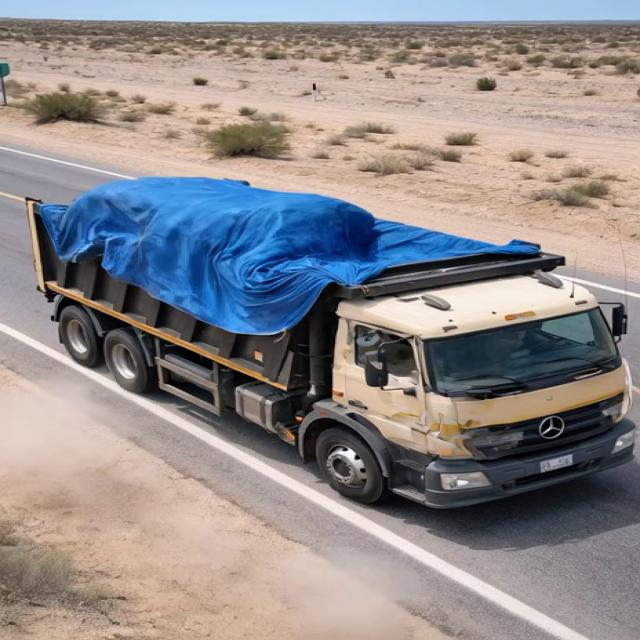Box: (19, 182, 582, 282)
Truck: (9, 139, 633, 505)
